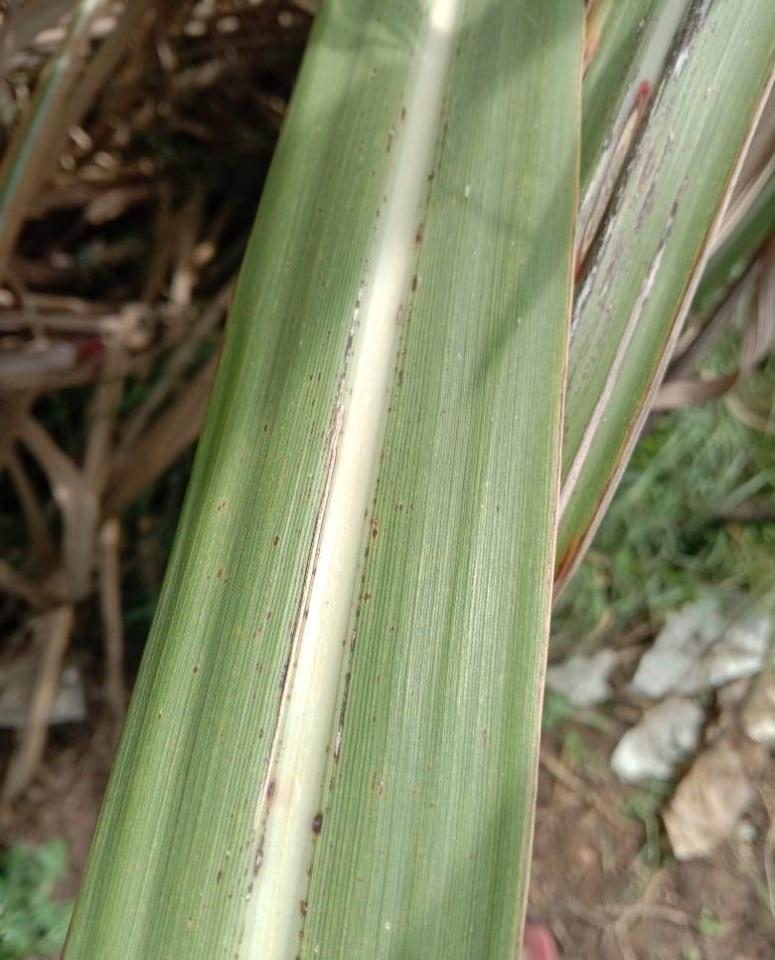RedRot: (575, 81, 651, 280)
Rust: (569, 1, 714, 348), (265, 278, 364, 778), (560, 174, 693, 525), (252, 777, 281, 884), (334, 670, 353, 763), (635, 15, 653, 45), (312, 812, 324, 837), (416, 223, 426, 246), (299, 899, 309, 919), (371, 518, 380, 539), (396, 303, 403, 327), (350, 630, 357, 653), (214, 870, 224, 885), (396, 369, 404, 387), (216, 500, 229, 511), (357, 593, 372, 602), (387, 132, 393, 153), (191, 664, 201, 676), (412, 275, 419, 291), (364, 544, 372, 558), (427, 172, 436, 183), (360, 573, 368, 584), (216, 568, 224, 579), (298, 930, 306, 941), (401, 107, 407, 121), (273, 536, 280, 548), (159, 708, 165, 719), (295, 952, 304, 959)
